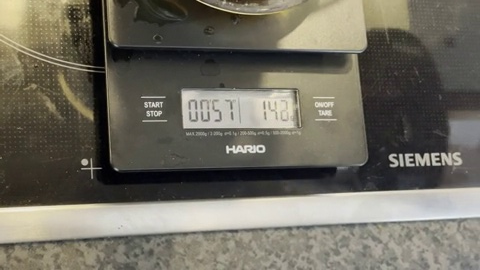display: (182, 89, 299, 127)
